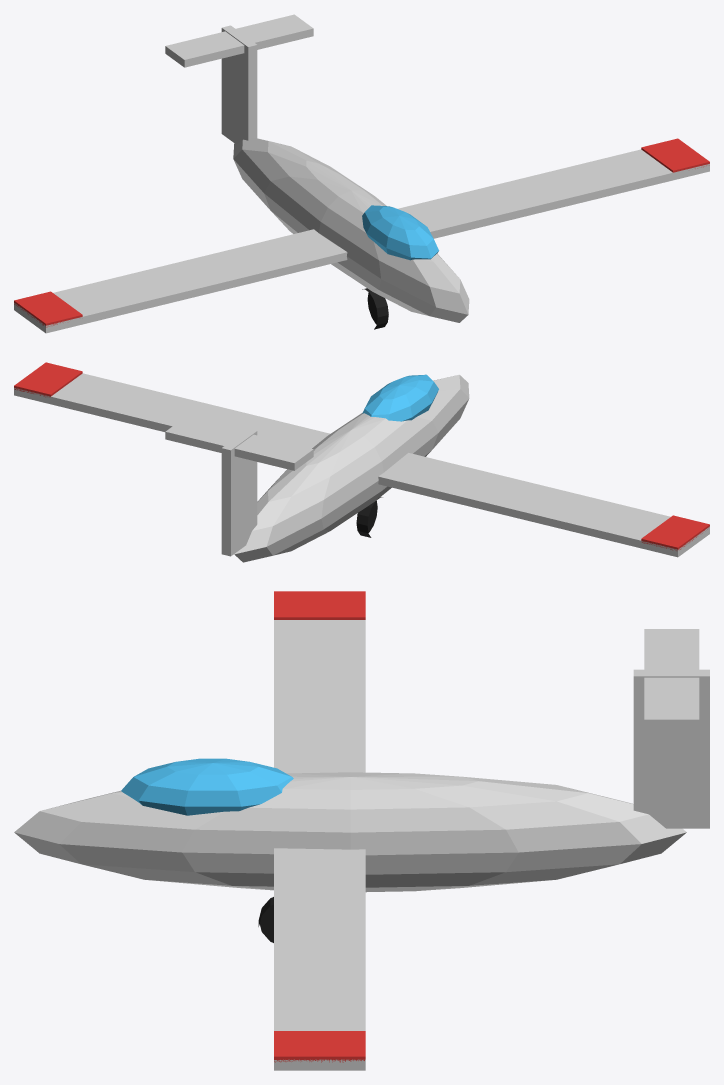
The model's file is segelflygplan.glb.
3 renders of one model, top to bottom at view 1: azimuth 30°, elevation 25°; view 2: azimuth 150°, elevation 25°; view 3: azimuth 270°, elevation 25°, orthographic. The views are drawn at different scales.
Visible parts, largest first — view 1: segelflygplan; view 2: segelflygplan; view 3: segelflygplan.
Boxes of the visible parts, <box> form: segelflygplan: <box>14,14,709,333</box>; segelflygplan: <box>14,362,709,562</box>; segelflygplan: <box>14,591,709,1070</box>.
Bounding box in the file's own units: 3.6 × 1 × 2.27.
